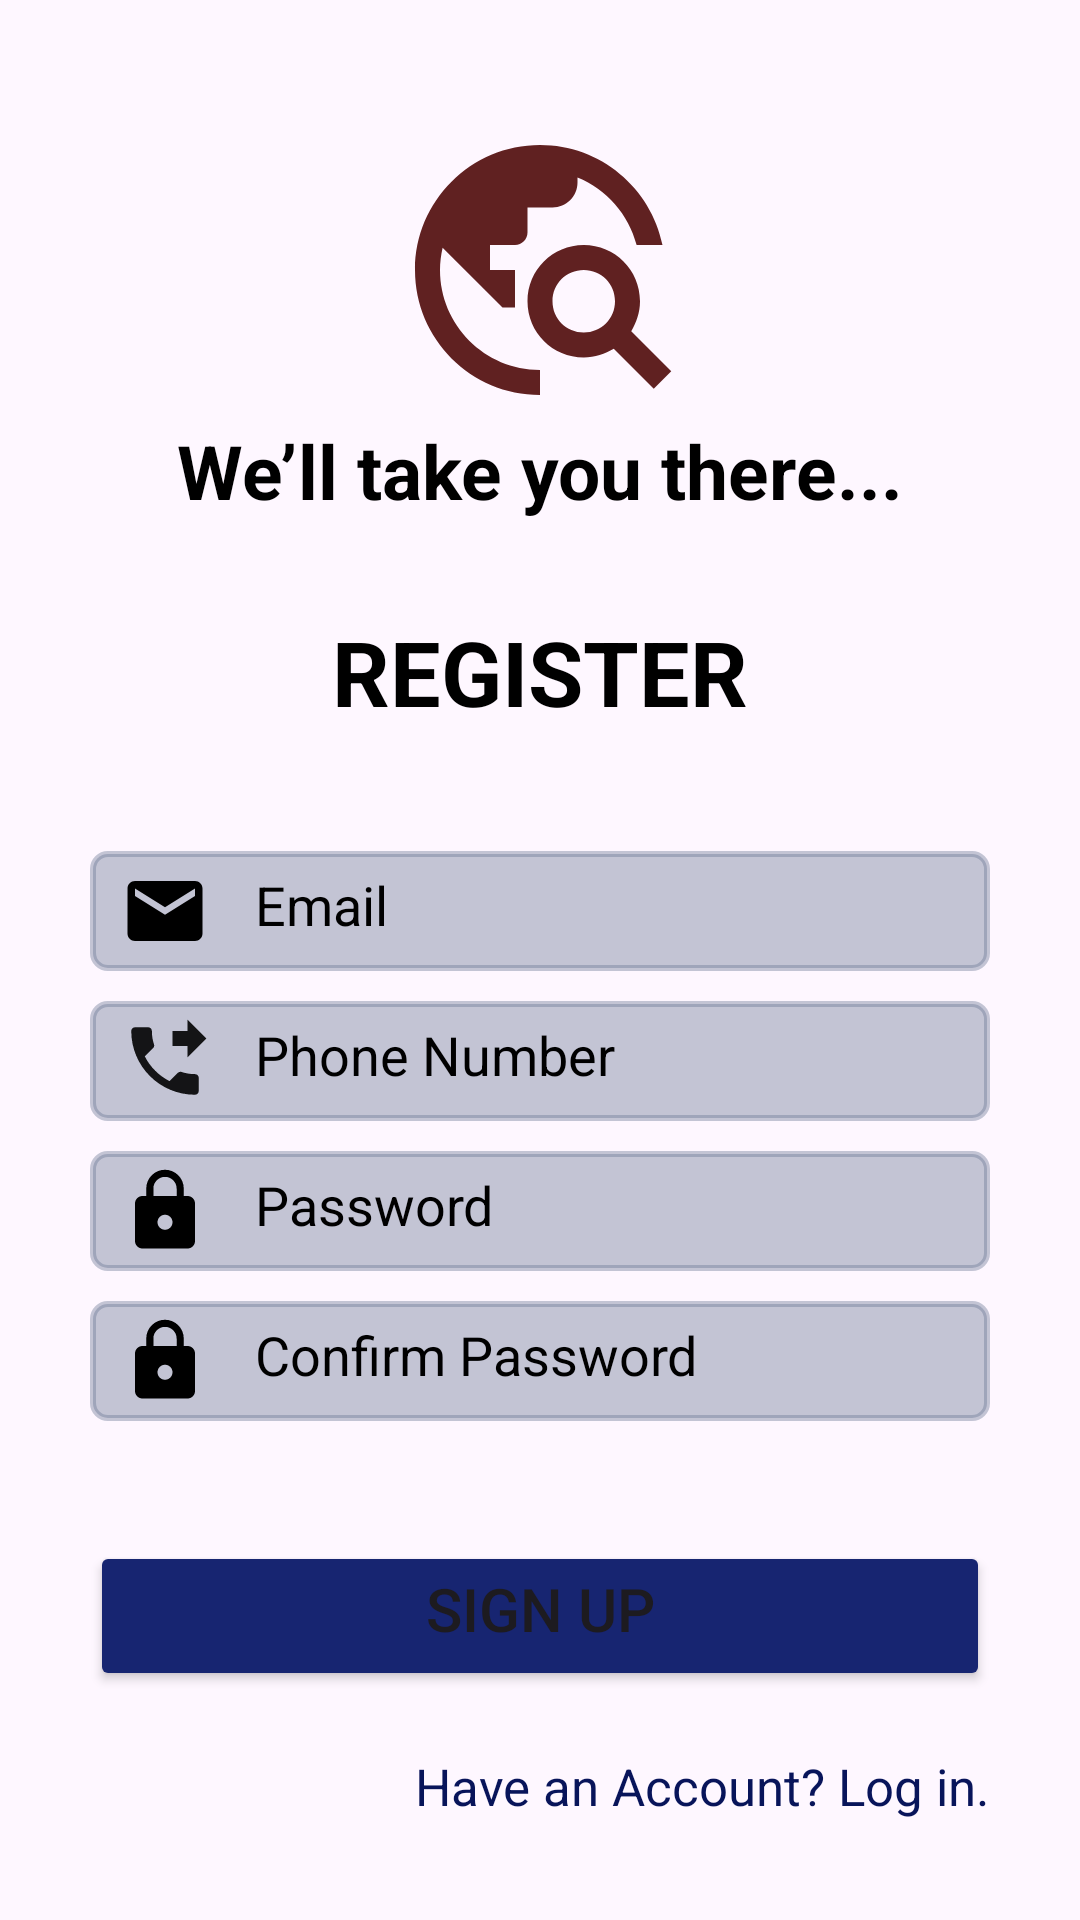

Icon click points for this 1080px×1920px phone screenshot, format point (x, y):
travel explore: point (543, 270)
